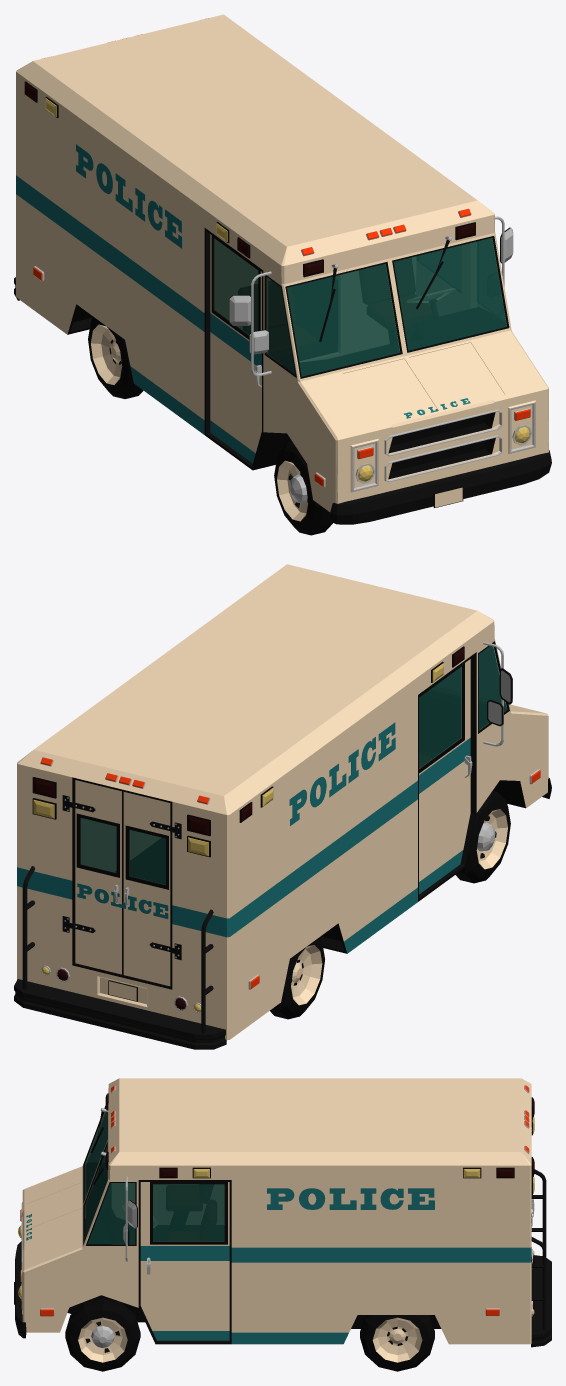
The model's file is PoliceVan_03.FBX.
3 views of the same model, one above another, from view 1: azimuth 30°, elevation 25°; view 2: azimuth 150°, elevation 25°; view 3: azimuth 270°, elevation 25° (orthographic). The views are drawn at different scales.
Parts seen in each view (by area): view 1: PoliceVan_03, interior, bumper_f, wheel_f_r, wheel_b_r, mirror_r, lights, signalLights_01; view 2: PoliceVan_03, interior, bumper_b, wheel_f_r, wheel_b_r, lights, signalLights_01, mirror_r, signalLights_02; view 3: PoliceVan_03, interior, wheel_f_l, wheel_b_l, bumper_b, lights, bumper_f, mirror_l, signalLights_01, signalLights_02.
Boxes of the visible parts, x1=… form: PoliceVan_03: x1=16, y1=14, x2=548, y2=511; interior: x1=214, y1=238, x2=506, y2=376; bumper_f: x1=330, y1=450, x2=551, y2=524; wheel_f_r: x1=274, y1=442, x2=332, y2=535; wheel_b_r: x1=88, y1=316, x2=143, y2=398; mirror_r: x1=229, y1=271, x2=271, y2=376; lights: x1=24, y1=81, x2=531, y2=487; signalLights_01: x1=45, y1=34, x2=406, y2=276; PoliceVan_03: x1=17, y1=564, x2=548, y2=1040; interior: x1=81, y1=646, x2=506, y2=884; bumper_b: x1=14, y1=979, x2=226, y2=1049; wheel_f_r: x1=455, y1=790, x2=510, y2=883; wheel_b_r: x1=270, y1=937, x2=324, y2=1019; lights: x1=32, y1=646, x2=539, y2=1012; signalLights_01: x1=33, y1=648, x2=464, y2=835; mirror_r: x1=483, y1=642, x2=512, y2=746; signalLights_02: x1=33, y1=663, x2=443, y2=856; PoliceVan_03: x1=21, y1=1078, x2=546, y2=1344; interior: x1=85, y1=1112, x2=224, y2=1243; wheel_f_l: x1=65, y1=1298, x2=140, y2=1371; wheel_b_l: x1=360, y1=1315, x2=434, y2=1371; bumper_b: x1=531, y1=1255, x2=551, y2=1347; lights: x1=21, y1=1085, x2=532, y2=1316; bumper_f: x1=15, y1=1241, x2=26, y2=1338; mirror_l: x1=123, y1=1176, x2=137, y2=1261; signalLights_01: x1=105, y1=1094, x2=534, y2=1193; signalLights_02: x1=105, y1=1116, x2=534, y2=1177.
Size of the model in its own units: 31.34 by 29.42 by 65.09.
